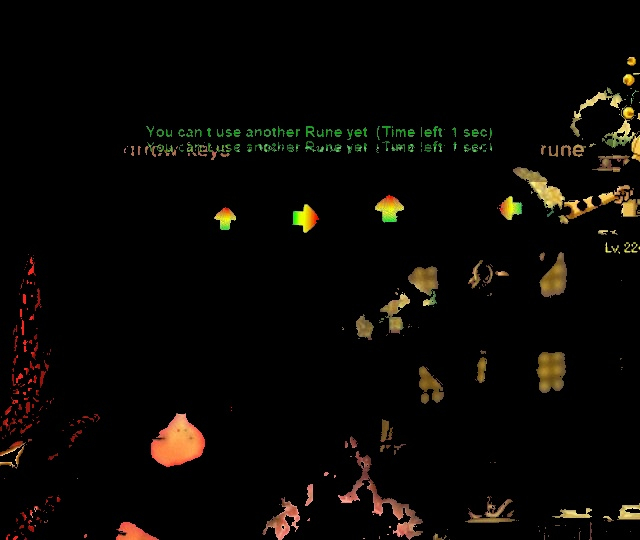left: (488, 188, 531, 230)
right: (285, 197, 331, 241)
up: (203, 197, 246, 242), (369, 186, 408, 230)
